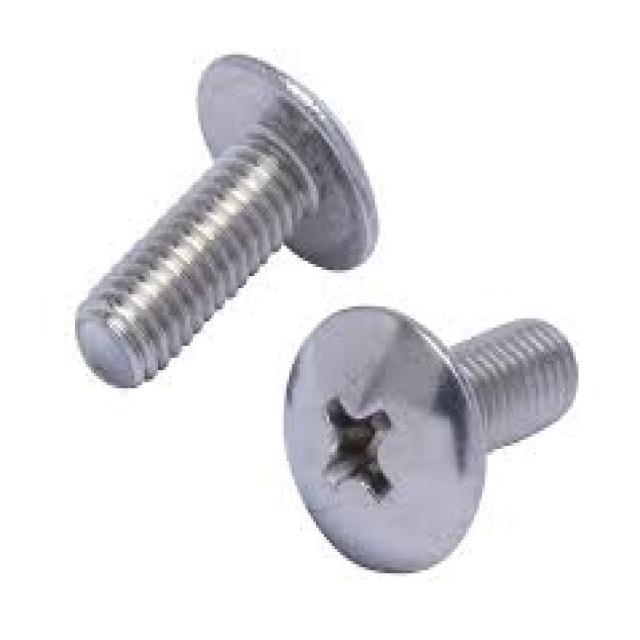Screw: (75, 55, 378, 391), (284, 306, 576, 576)
